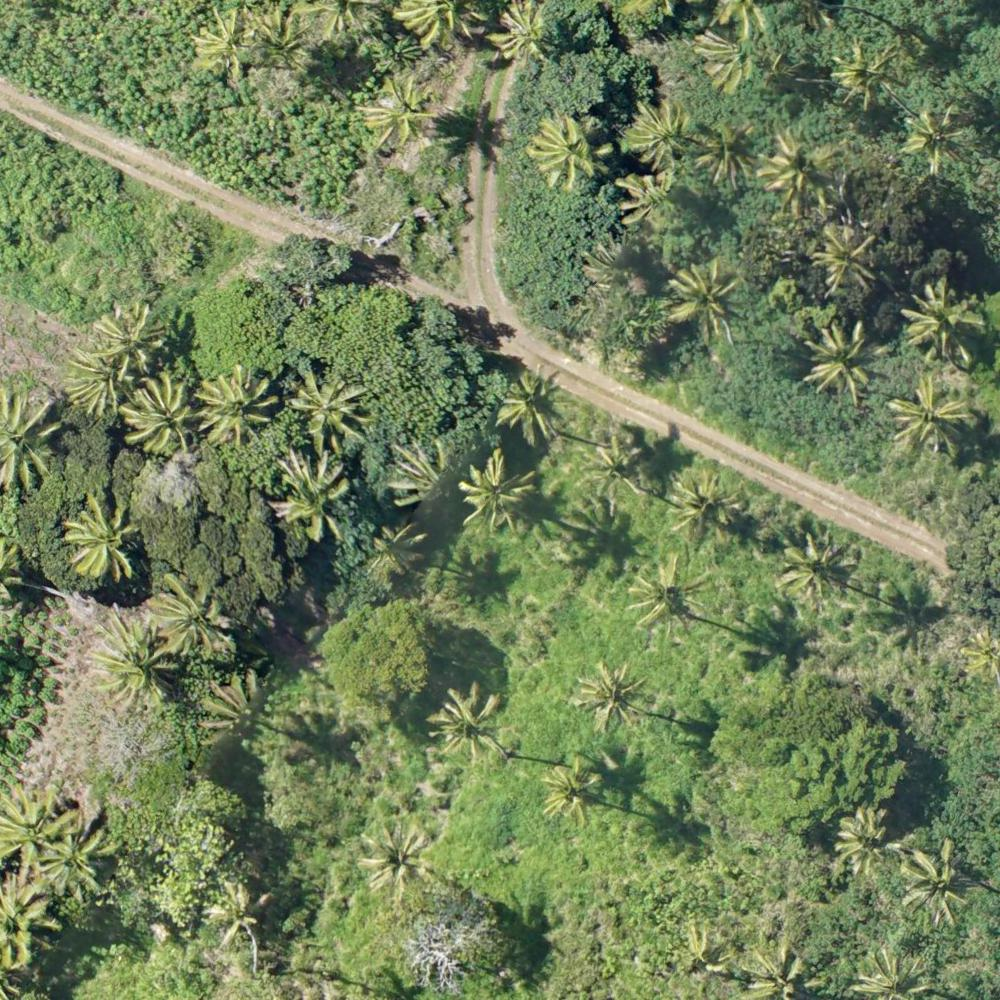Palm: (86, 615, 180, 709), (146, 572, 231, 661), (291, 368, 374, 455), (758, 126, 838, 214), (276, 449, 356, 536), (892, 838, 970, 926), (361, 810, 440, 895), (807, 316, 882, 402), (630, 563, 709, 642), (5, 785, 73, 874), (889, 376, 968, 452), (905, 278, 980, 357), (455, 454, 533, 529), (670, 472, 751, 544), (526, 118, 611, 186), (668, 262, 742, 340), (66, 497, 138, 577), (573, 664, 648, 739), (199, 369, 276, 442), (778, 532, 854, 605), (126, 378, 200, 452), (46, 822, 114, 899), (436, 686, 507, 759), (364, 78, 435, 150), (190, 6, 261, 76), (575, 431, 651, 496), (629, 96, 698, 166), (95, 302, 163, 371), (500, 372, 567, 441), (206, 879, 272, 949), (64, 350, 131, 416), (696, 28, 764, 93), (819, 224, 881, 292), (838, 809, 899, 878), (834, 44, 898, 109), (541, 761, 605, 826), (742, 944, 816, 1000), (253, 8, 313, 75), (699, 122, 757, 184), (903, 111, 970, 164), (490, 2, 548, 62), (620, 173, 682, 228), (367, 529, 428, 581)
